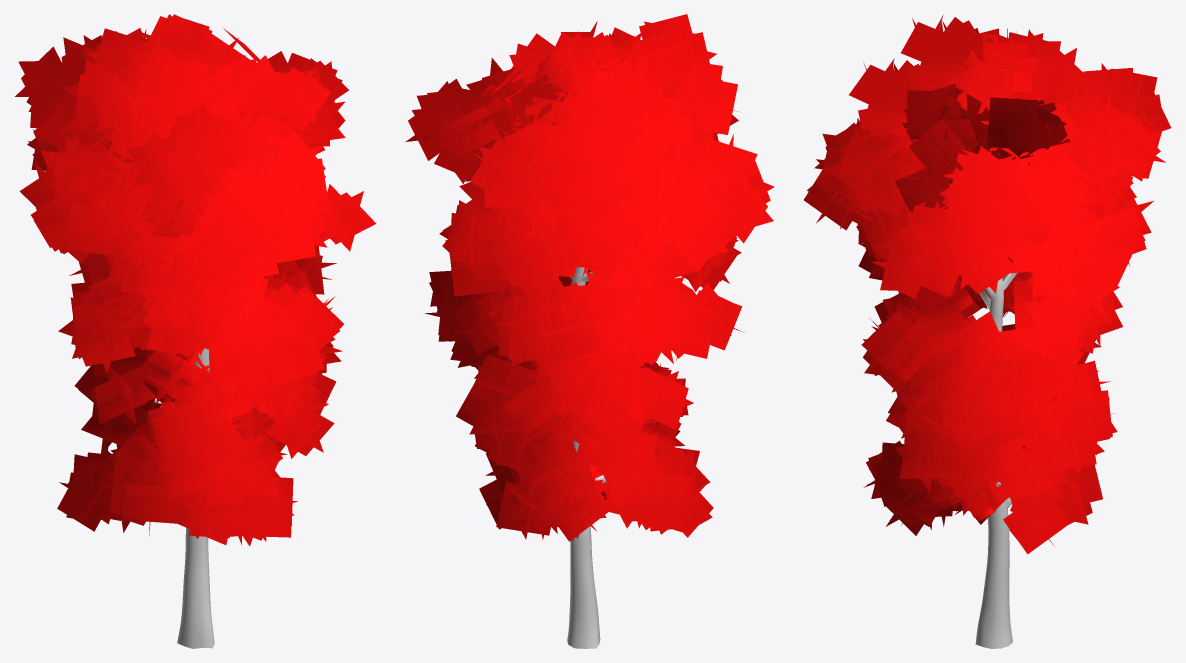
File: SM_TreeTower_03.fbx
The picture shows the model from 3 angles, left to right: view 1: azimuth 30°, elevation 25°; view 2: azimuth 150°, elevation 25°; view 3: azimuth 270°, elevation 25°; orthographic projection. The views are drawn at different scales.
Visible parts, largest first — view 1: SM_TreeTower_03_LOD0; view 2: SM_TreeTower_03_LOD0; view 3: SM_TreeTower_03_LOD0.
Part boxes in pixels (box(x1,y1,x2,y2)): SM_TreeTower_03_LOD0: box(15, 14, 376, 648); SM_TreeTower_03_LOD0: box(405, 14, 774, 648); SM_TreeTower_03_LOD0: box(804, 15, 1171, 648).
Size of what is drawn, in the model's own units: 8.44 by 15.05 by 8.31.
